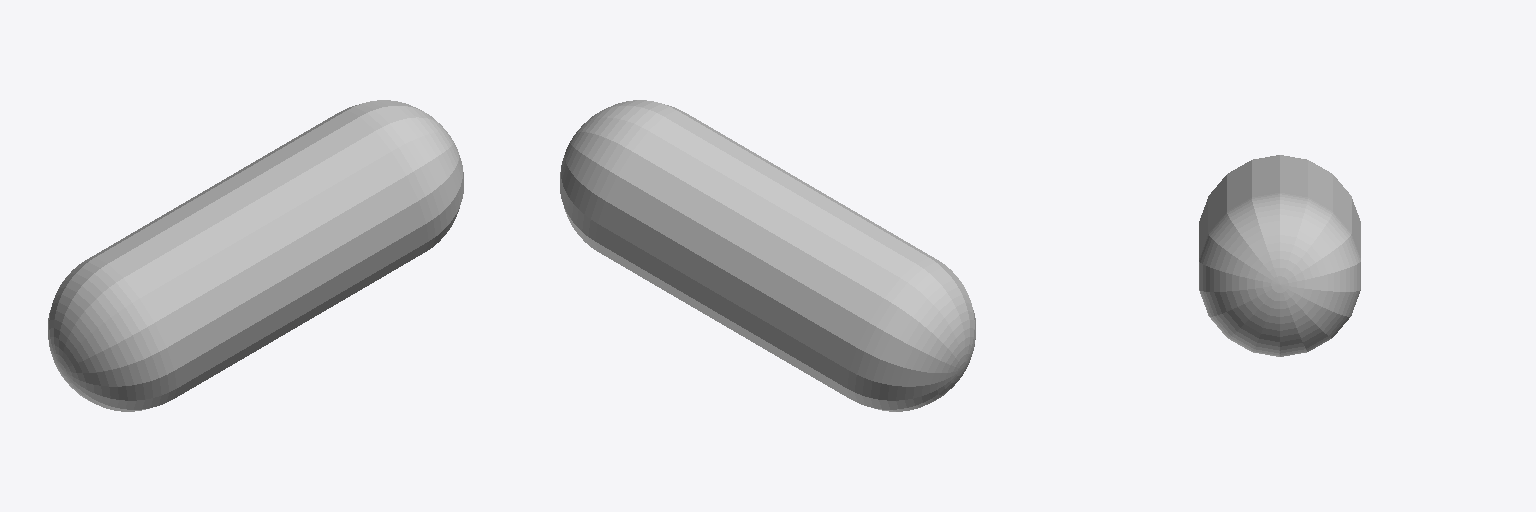
File: P_arm_left.obj
3 views of the same model, side by side, from view 1: azimuth 30°, elevation 25°; view 2: azimuth 150°, elevation 25°; view 3: azimuth 270°, elevation 25° (orthographic).
Parts seen in each view (by area): view 1: arm_left; view 2: arm_left; view 3: arm_left.
Boxes of the visible parts, x1=… form: arm_left: x1=48, y1=100, x2=463, y2=411; arm_left: x1=560, y1=100, x2=975, y2=411; arm_left: x1=1199, y1=155, x2=1360, y2=356.
Size of the model in its own units: 1.49 by 0.849 by 0.5318.